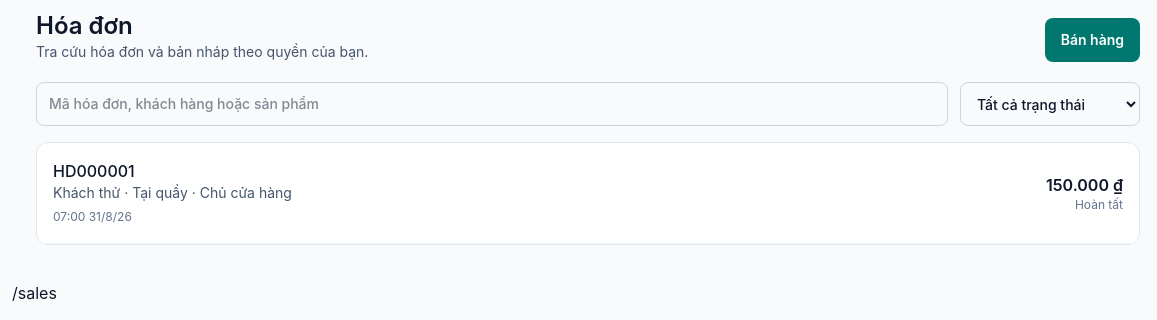
Test: SalesListPage › updates the URL immediately but debounces the search request
The image size is (1157, 320).
Check: the text "HD000001" is shown, box [53,161,135,181]
Type "HD000002" into the field named "Tìm hóa đơn" at coordinates (492, 104), box [36,82,948,126]
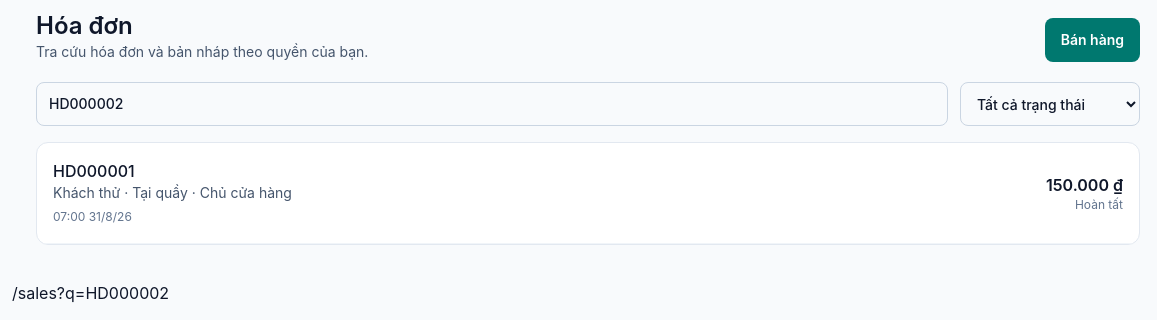
Check: the text named "URL hiện tại" reads "/sales?q=HD000002", box [12,283,169,303]
